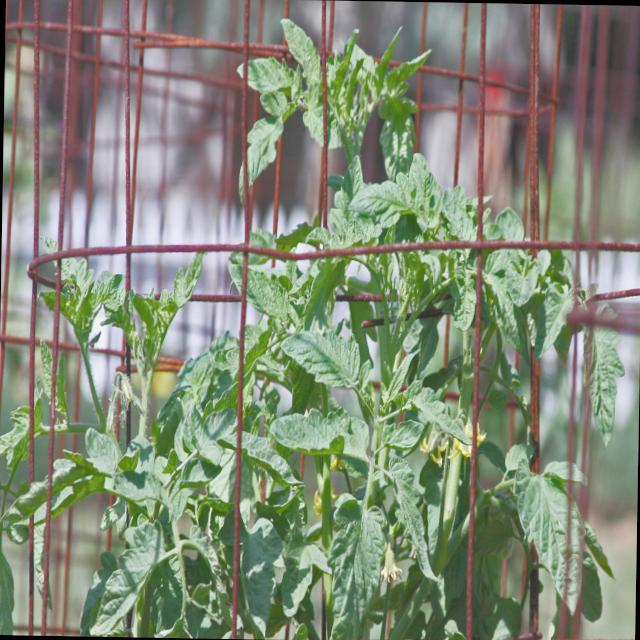Tomato healthy leaf: (227, 22, 474, 640), (0, 233, 241, 638), (499, 438, 618, 630)
